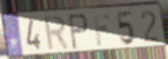2: (140, 9, 160, 44)
4: (26, 17, 43, 52)
5: (114, 9, 138, 47)
F: (92, 13, 111, 48)
P: (67, 12, 90, 51)
R: (43, 14, 71, 53)
